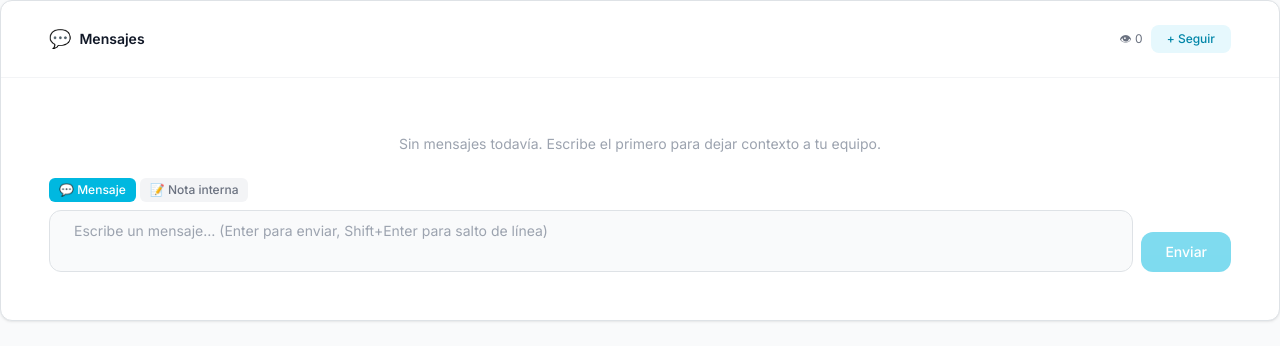
Test case: Chatter (hilo de mensajes del documento) › publica una nota interna cuando se elige ese modo
Click the button "📝 Nota interna" at (194, 190), box x1=140 y1=178 x2=248 y2=202
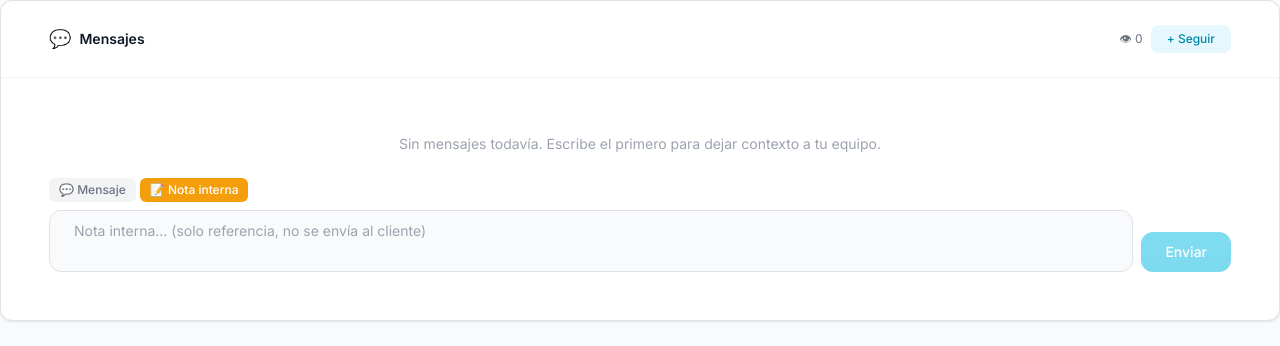
Type "Ojo con el proveedor" into the text box with placeholder "Nota interna… (solo referencia, no se envía al cliente)" at (591, 241), box x1=49 y1=210 x2=1133 y2=272
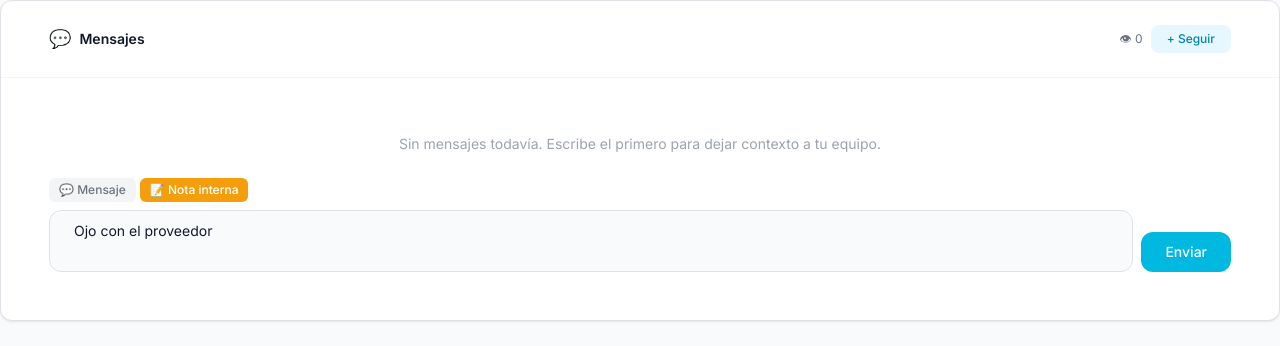
Click the button "Enviar" at (1186, 252), box x1=1141 y1=232 x2=1231 y2=272
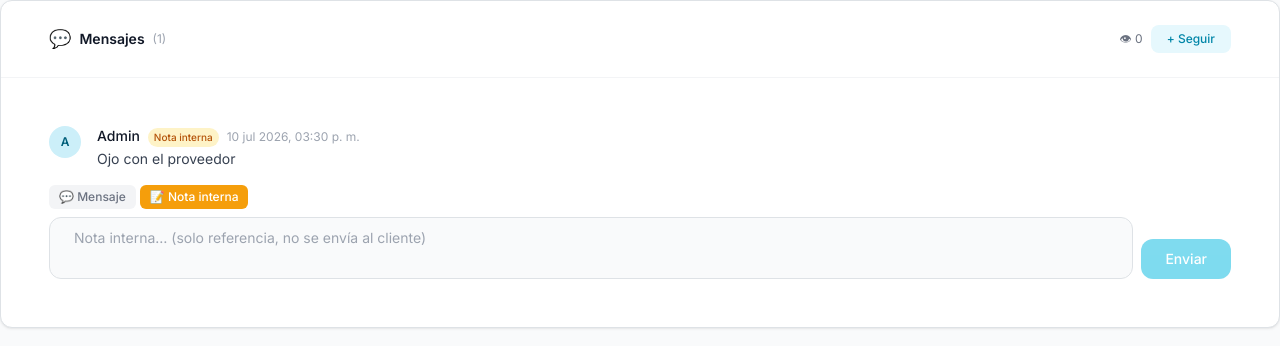
Now the text "Nota interna" is shown, box x1=148 y1=128 x2=219 y2=147
